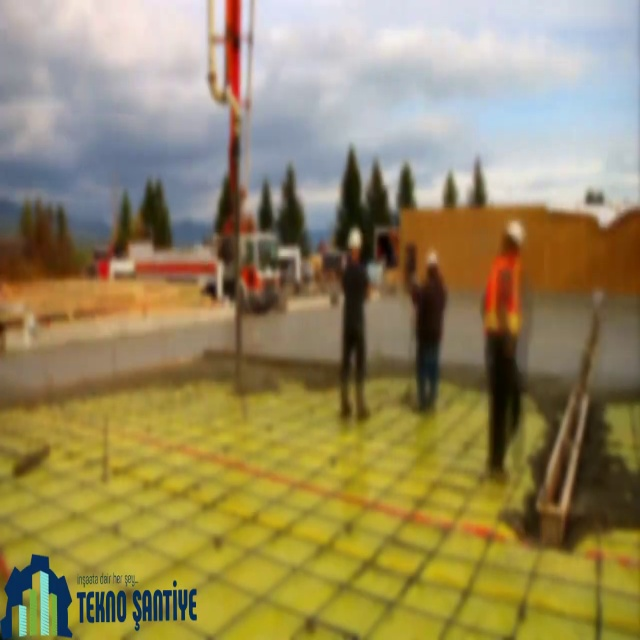safety_helmet: (504, 219, 526, 245), (346, 226, 363, 250)
